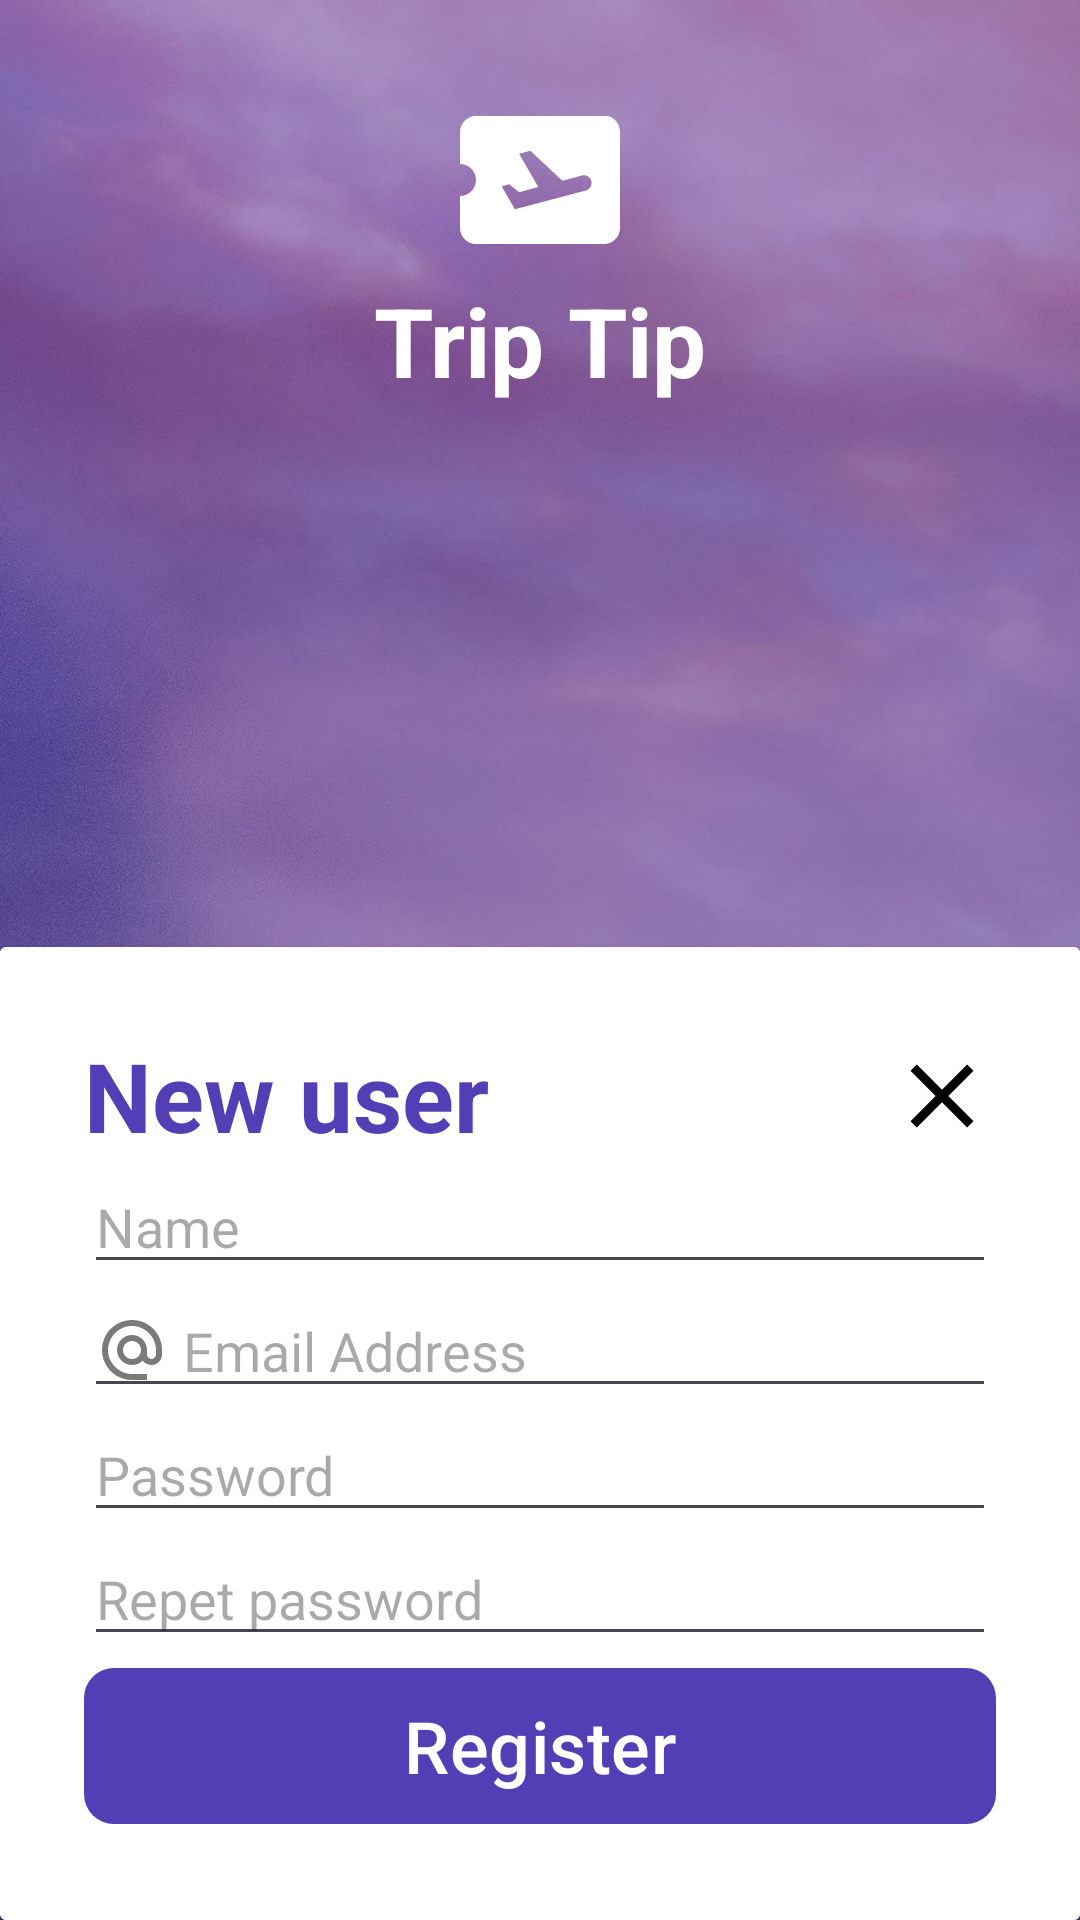

Named icons in this screenshot (1080×1920) and their centers, (x,y):
close: (942,1096)
plane: (540,196)
